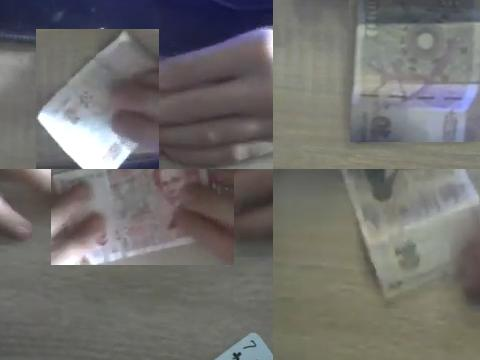5leva: (36, 29, 159, 169), (51, 169, 216, 265)
